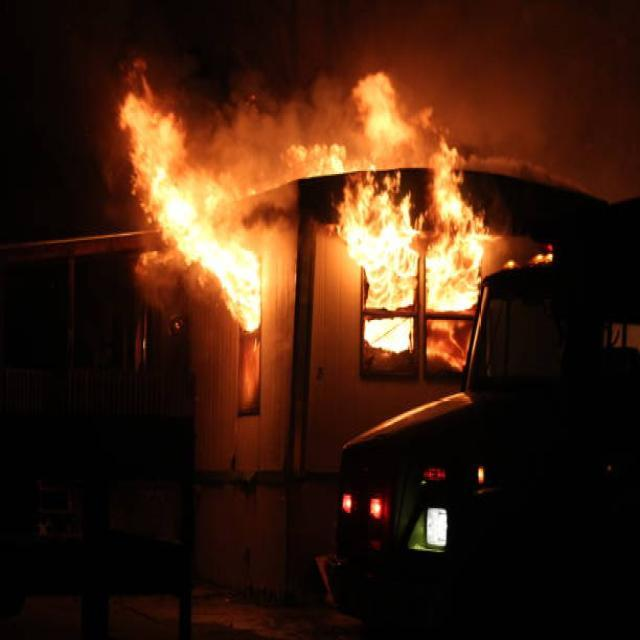Fire: (126, 141, 282, 344), (348, 164, 491, 338)
Smoke: (104, 26, 474, 186)
